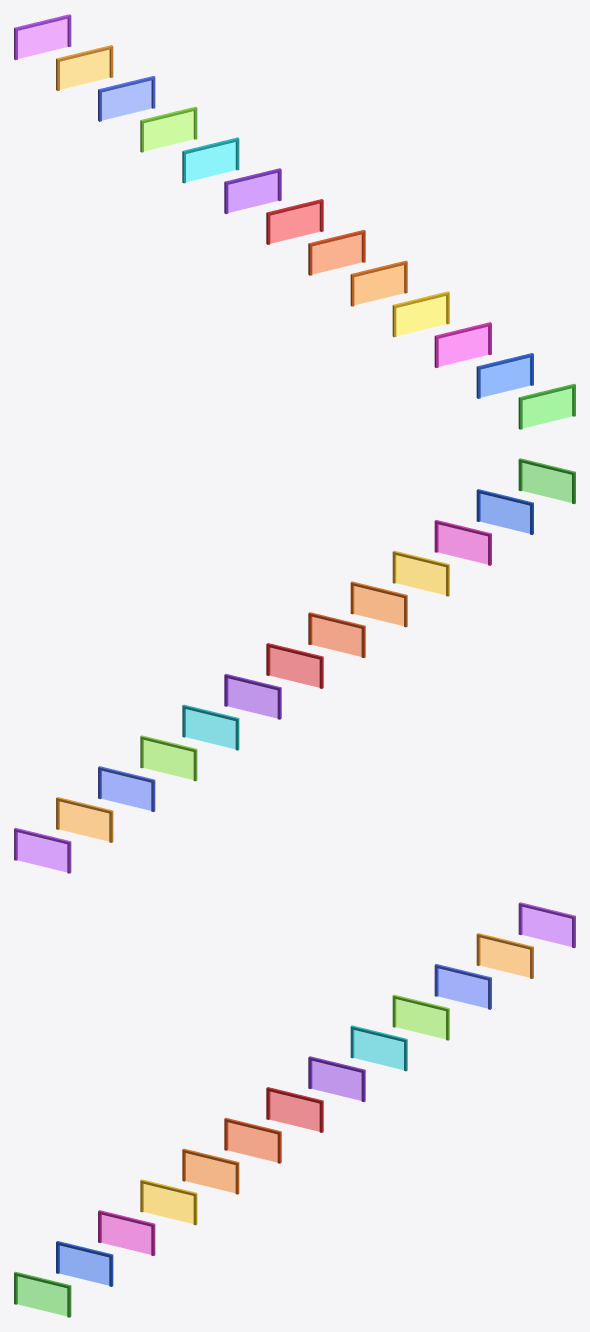
The model's file is Stage_Frames.fbx.
3 views of the same model, one above another, from view 1: azimuth 30°, elevation 25°; view 2: azimuth 150°, elevation 25°; view 3: azimuth 330°, elevation 25° (orthographic).
Parts seen in each view (by area): view 1: Stage05_Pane, Stage11_Pane, Stage02_Pane, Stage03_Pane, Stage04_Pane, Stage06_Pane, Stage07_Pane, Stage08_Pane, Stage09_Pane, Stage10_Pane, Stage12_Pane, Stage13_Pane (+12 smaller); view 2: Stage05_Pane, Stage11_Pane, Stage06_Pane, Stage07_Pane, Stage08_Pane, Stage09_Pane, Stage10_Pane, Stage12_Pane, Stage13_Pane, Stage14_Pane, Stage02_Pane, Stage03_Pane (+12 smaller); view 3: Stage05_Pane, Stage11_Pane, Stage02_Pane, Stage03_Pane, Stage04_Pane, Stage06_Pane, Stage07_Pane, Stage08_Pane, Stage09_Pane, Stage10_Pane, Stage12_Pane, Stage13_Pane (+12 smaller).
Part boxes in pixels (x1=…): Stage05_Pane: x1=396, y1=296, x2=446, y2=335; Stage11_Pane: x1=144, y1=111, x2=194, y2=151; Stage02_Pane: x1=522, y1=388, x2=572, y2=428; Stage03_Pane: x1=480, y1=357, x2=530, y2=397; Stage04_Pane: x1=438, y1=327, x2=488, y2=366; Stage06_Pane: x1=354, y1=265, x2=404, y2=304; Stage07_Pane: x1=312, y1=234, x2=362, y2=274; Stage08_Pane: x1=270, y1=203, x2=320, y2=243; Stage09_Pane: x1=228, y1=173, x2=278, y2=212; Stage10_Pane: x1=186, y1=142, x2=236, y2=181; Stage12_Pane: x1=102, y1=80, x2=151, y2=120; Stage13_Pane: x1=60, y1=49, x2=109, y2=89; Stage05_Pane: x1=395, y1=555, x2=445, y2=595; Stage11_Pane: x1=143, y1=740, x2=193, y2=779; Stage06_Pane: x1=353, y1=586, x2=403, y2=625; Stage07_Pane: x1=311, y1=617, x2=361, y2=656; Stage08_Pane: x1=269, y1=647, x2=319, y2=687; Stage09_Pane: x1=227, y1=678, x2=277, y2=718; Stage10_Pane: x1=185, y1=709, x2=235, y2=748; Stage12_Pane: x1=101, y1=771, x2=151, y2=810; Stage13_Pane: x1=59, y1=801, x2=109, y2=841; Stage14_Pane: x1=17, y1=832, x2=67, y2=872; Stage02_Pane: x1=522, y1=463, x2=571, y2=502; Stage03_Pane: x1=480, y1=493, x2=529, y2=533; Stage05_Pane: x1=143, y1=1184, x2=193, y2=1223; Stage11_Pane: x1=395, y1=999, x2=445, y2=1039; Stage02_Pane: x1=17, y1=1276, x2=67, y2=1316; Stage03_Pane: x1=59, y1=1245, x2=109, y2=1285; Stage04_Pane: x1=101, y1=1215, x2=151, y2=1254; Stage06_Pane: x1=185, y1=1153, x2=235, y2=1192; Stage07_Pane: x1=227, y1=1122, x2=277, y2=1162; Stage08_Pane: x1=269, y1=1091, x2=319, y2=1131; Stage09_Pane: x1=311, y1=1061, x2=361, y2=1100; Stage10_Pane: x1=353, y1=1030, x2=403, y2=1069; Stage12_Pane: x1=438, y1=968, x2=487, y2=1008; Stage13_Pane: x1=480, y1=937, x2=529, y2=977.
Size of the model in its own units: 4300 by 2320 by 67400.
